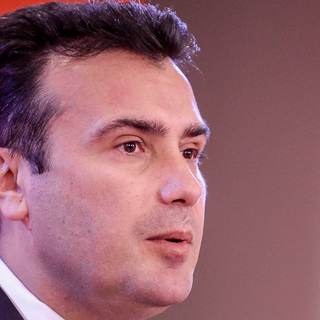eye: (108, 135, 154, 160), (178, 141, 206, 166)
